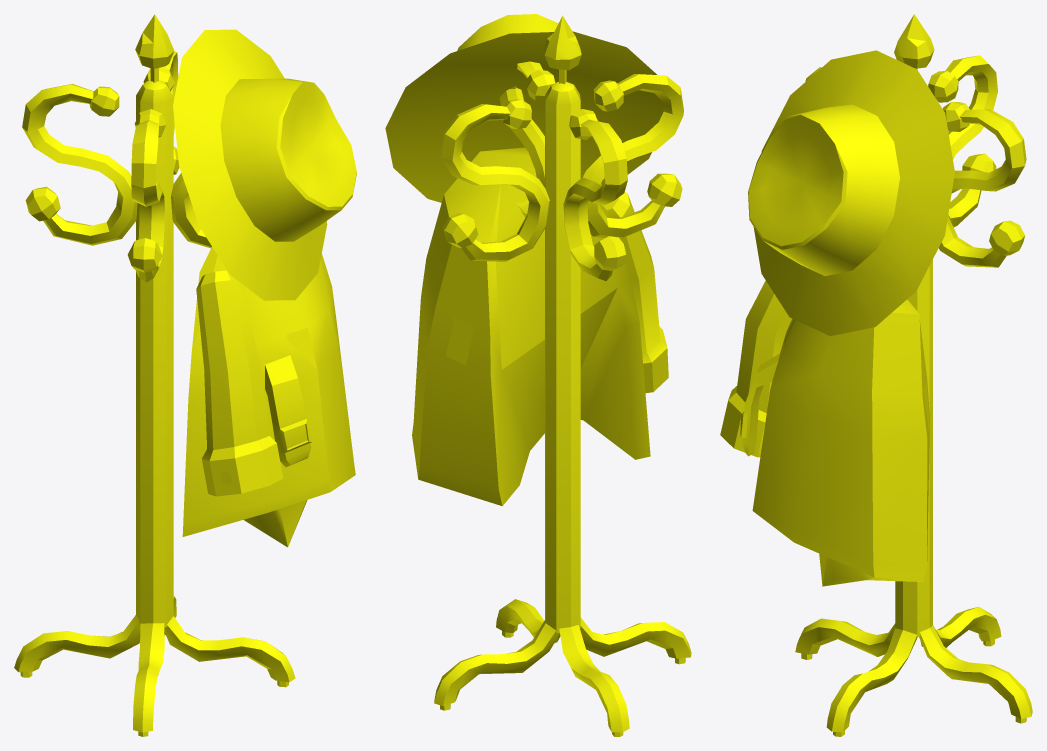
The picture shows the model from 3 angles, left to right: view 1: azimuth 30°, elevation 25°; view 2: azimuth 150°, elevation 25°; view 3: azimuth 270°, elevation 25°; orthographic projection.
Parts seen in each view (by area): view 1: coat; view 2: coat; view 3: coat.
Part boxes in pixels (x1,y1,x2,y2): coat: (14, 14, 356, 736); coat: (385, 14, 691, 736); coat: (720, 14, 1032, 736).
Size of the model in its own units: 0.00853 by 0.0201 by 0.00841.
1 material, 1 textured.
